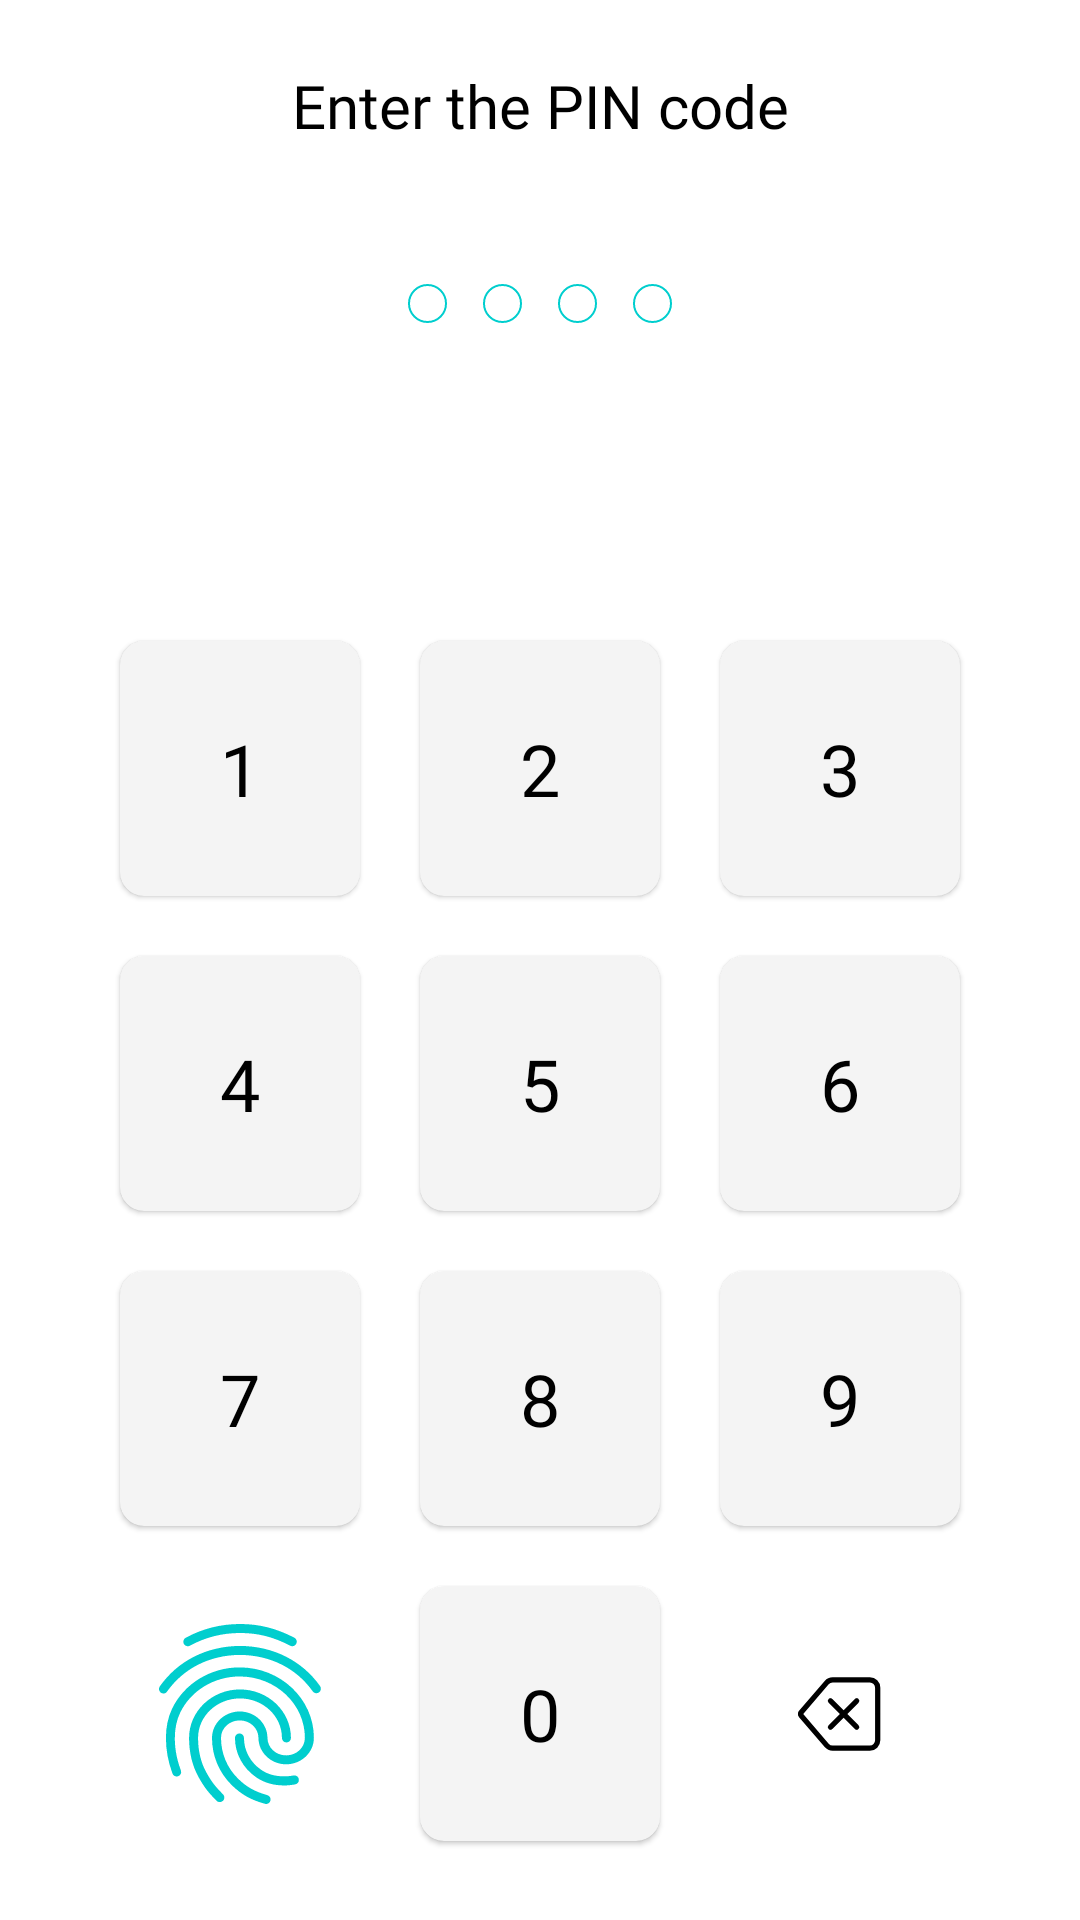

Where icons sit on this 1080 × 1920 app screen, as {"x1": x1, "y1": y1, "x2": x2, "y2": y2}:
backspace: {"x1": 798, "y1": 1677, "x2": 881, "y2": 1751}
ingerprint: {"x1": 159, "y1": 1624, "x2": 321, "y2": 1804}
